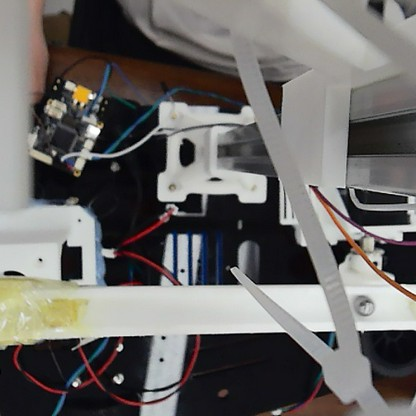ironball: (350, 289, 377, 320)
